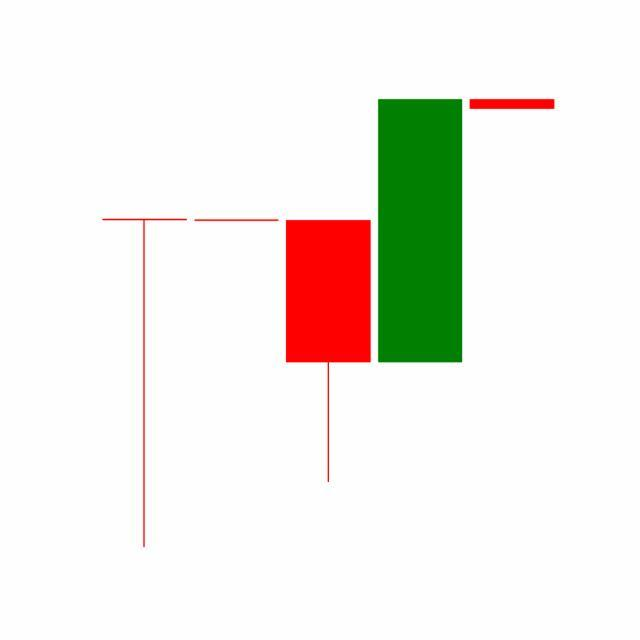Marubozu: (374, 97, 468, 366)
